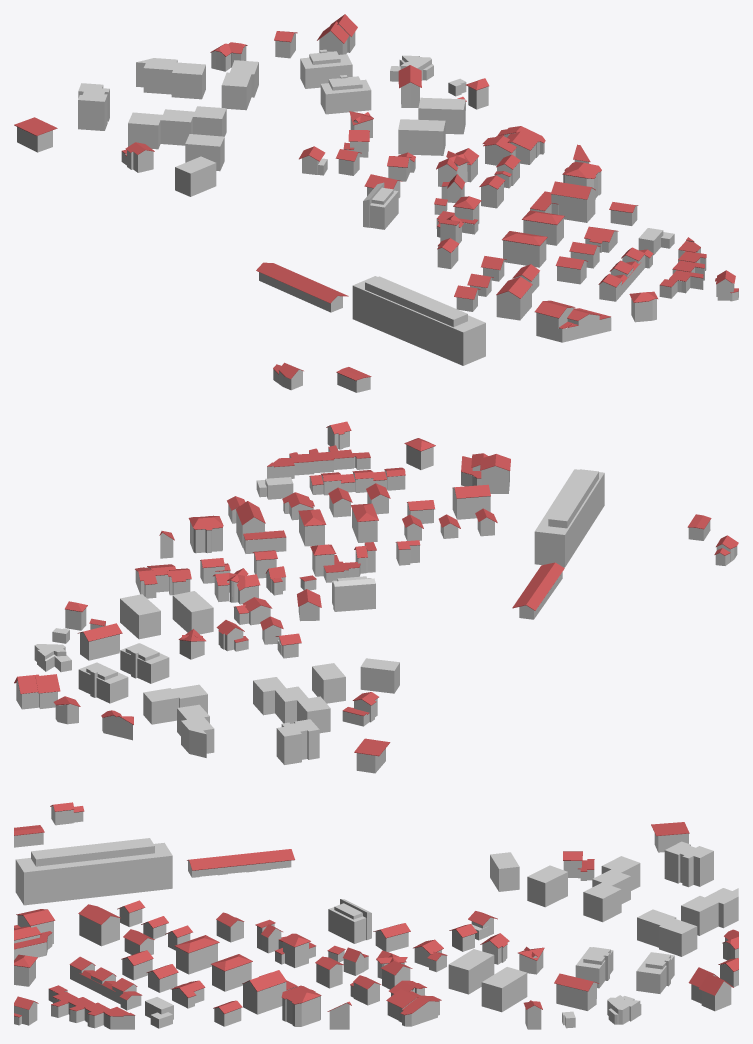
File: 04_altdorf_model_voisinage.fbx
3 views of the same model, one above another, from view 1: azimuth 30°, elevation 25°; view 2: azimuth 150°, elevation 25°; view 3: azimuth 270°, elevation 25° (orthographic). The views are drawn at different scales.
Parts seen in each view (by area): view 1: Plane.002; view 2: Plane.002; view 3: Plane.002.
Boxes of the visible parts, left/top/right/bottom form: Plane.002: left=14, top=14, right=738, bottom=392; Plane.002: left=14, top=421, right=738, bottom=773; Plane.002: left=14, top=802, right=738, bottom=1029.
Bounding box in the file's own units: 55.41 × 4.9 × 79.99.
